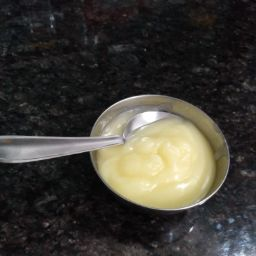Clarified Butter(ghee): (112, 113, 207, 198), (152, 137, 202, 184)
